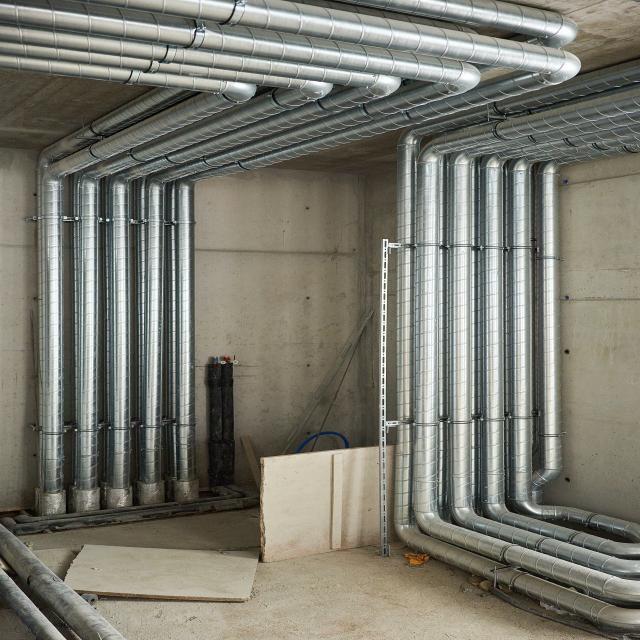Metal: (0, 0, 584, 522), (328, 59, 640, 640)
